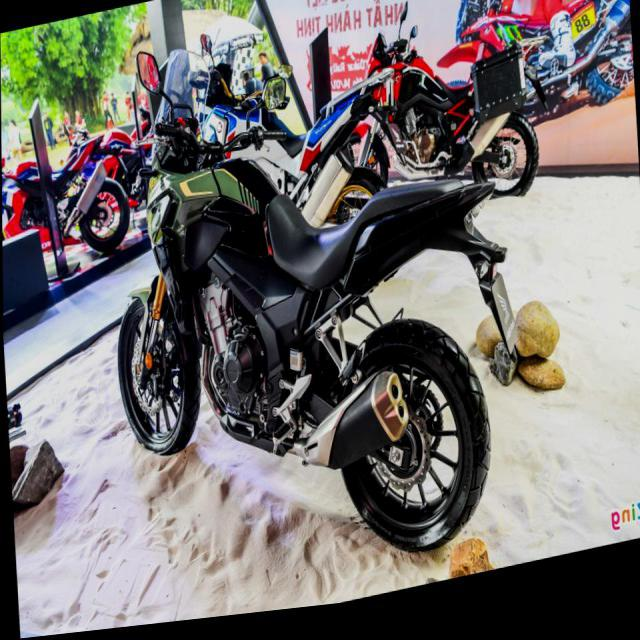CB500X: (98, 0, 500, 616)
